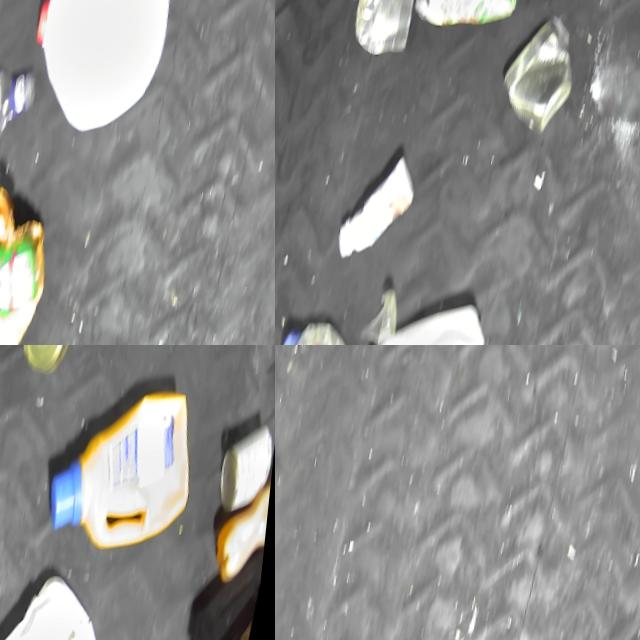can: (494, 0, 589, 137), (213, 405, 275, 513), (346, 0, 426, 60), (16, 345, 82, 375)
milk_jug: (22, 0, 193, 144), (348, 277, 504, 345)
non_white_jug: (43, 366, 215, 558)
plastic_bottle: (0, 54, 48, 169)
